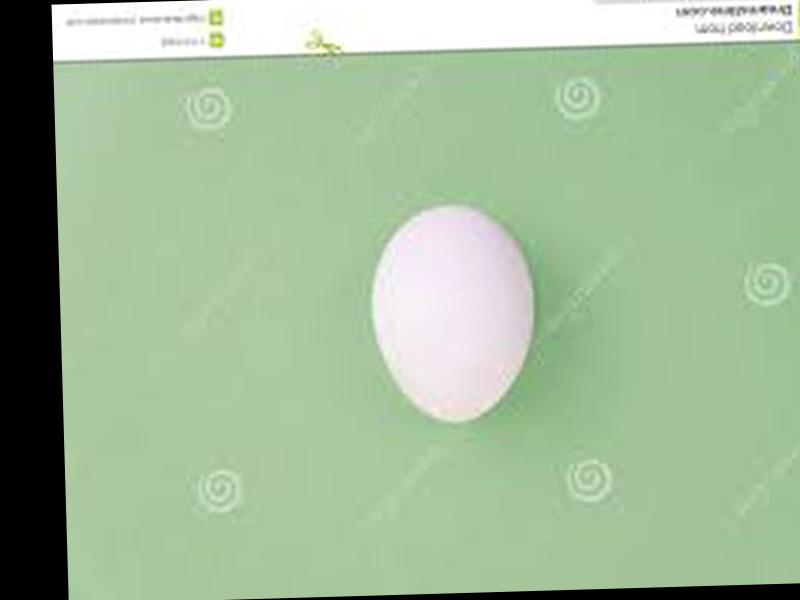Eggs: (372, 203, 538, 422)
